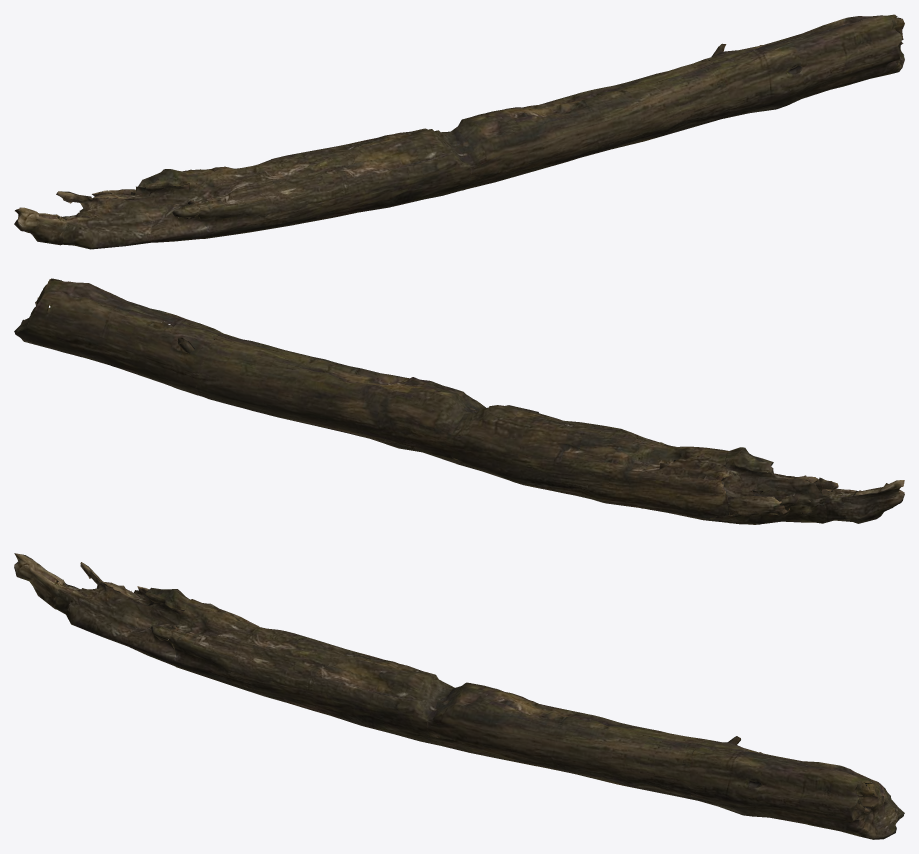
File: dead_tree_trunk.gltf
3 views of the same model, one above another, from view 1: azimuth 30°, elevation 25°; view 2: azimuth 150°, elevation 25°; view 3: azimuth 330°, elevation 25° (orthographic).
Parts seen in each view (by area): view 1: dead_tree_trunk; view 2: dead_tree_trunk; view 3: dead_tree_trunk.
Boxes of the visible parts, left/top/right/bottom form: dead_tree_trunk: left=14, top=14, right=904, bottom=249; dead_tree_trunk: left=14, top=278, right=904, bottom=524; dead_tree_trunk: left=14, top=553, right=904, bottom=839.
Size of the model in its own units: 3.05 by 0.2898 by 0.275.
1 material, 1 textured.
